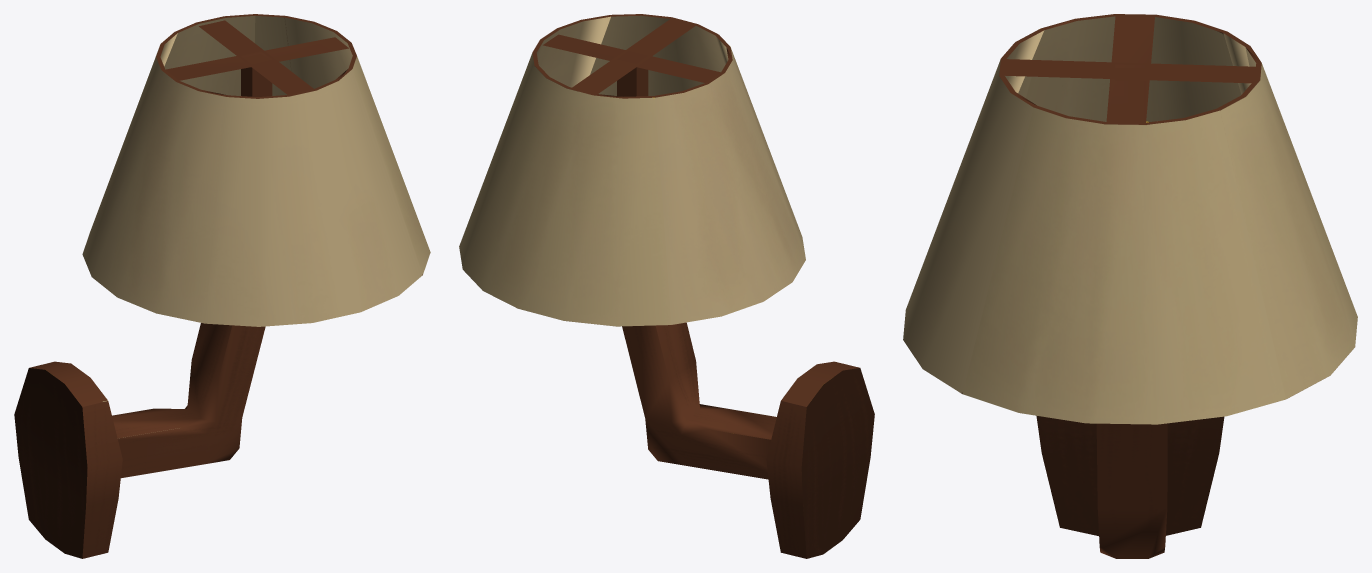
File: Wall_Light.fbx
3 views of the same model, side by side, from view 1: azimuth 30°, elevation 25°; view 2: azimuth 150°, elevation 25°; view 3: azimuth 270°, elevation 25° (orthographic). The views are drawn at different scales.
Parts seen in each view (by area): view 1: polySurface16; view 2: polySurface16; view 3: polySurface16.
Boxes of the visible parts, x1,y1,x2,y2 form: polySurface16: (14, 14, 430, 558); polySurface16: (459, 14, 874, 558); polySurface16: (903, 14, 1357, 558).
Bounding box in the file's own units: 6.51 × 7.72 × 5.48.
2 materials, 2 textured.
